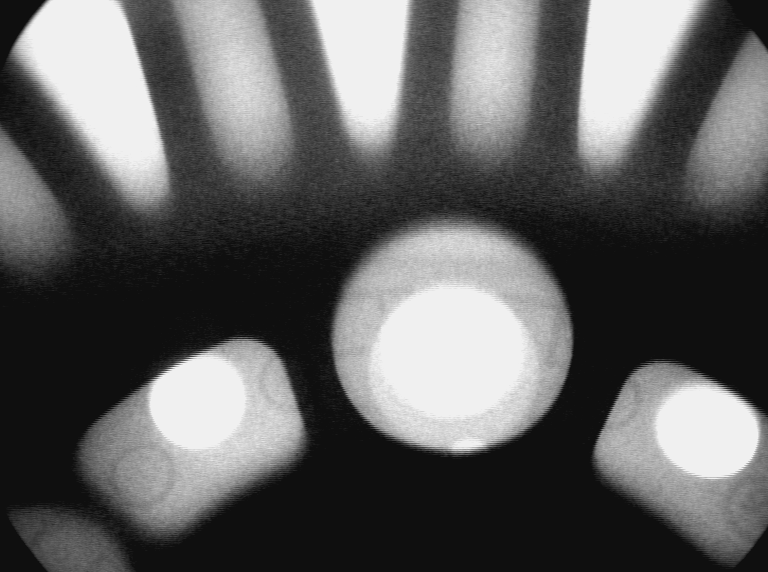defect: (449, 434, 494, 460)
